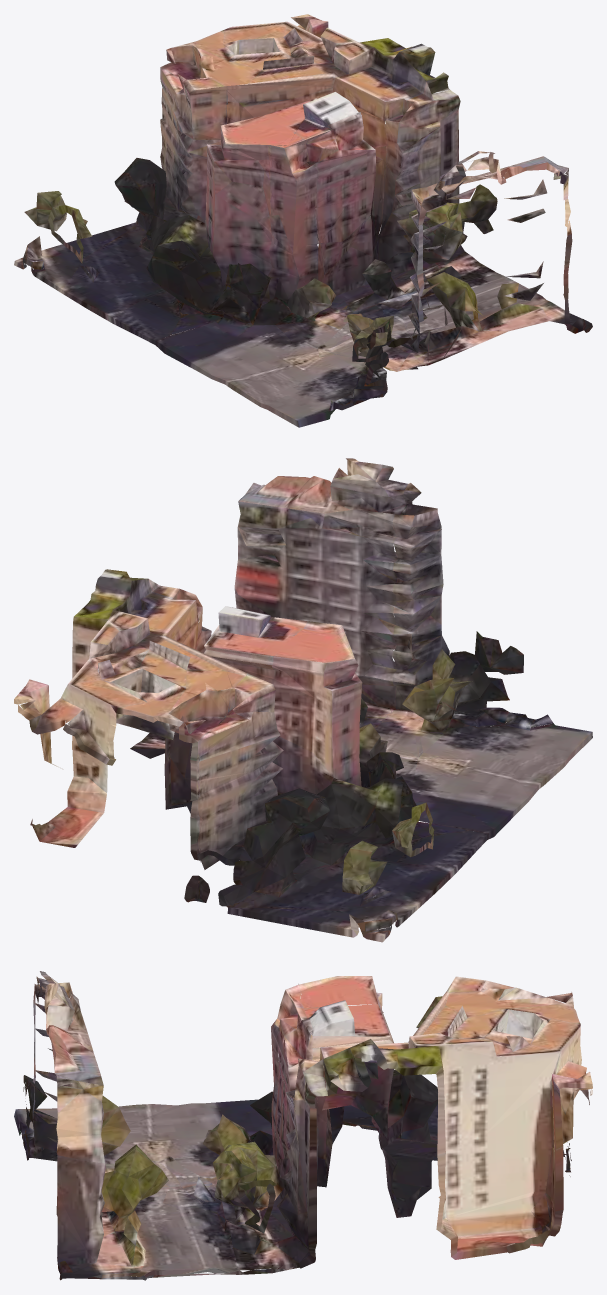
3 renders of one model, top to bottom at view 1: azimuth 30°, elevation 25°; view 2: azimuth 150°, elevation 25°; view 3: azimuth 270°, elevation 25°, orthographic. The views are drawn at different scales.
Visible parts, largest first — view 1: Mesh_0; view 2: Mesh_0; view 3: Mesh_0.
Part boxes in pixels (<box>): Mesh_0: <box>14,14,592,427</box>; Mesh_0: <box>14,458,592,942</box>; Mesh_0: <box>14,971,592,1280</box>.
Bounding box in the file's own units: 66.8 × 38.43 × 82.55.
1 material, 1 textured.
